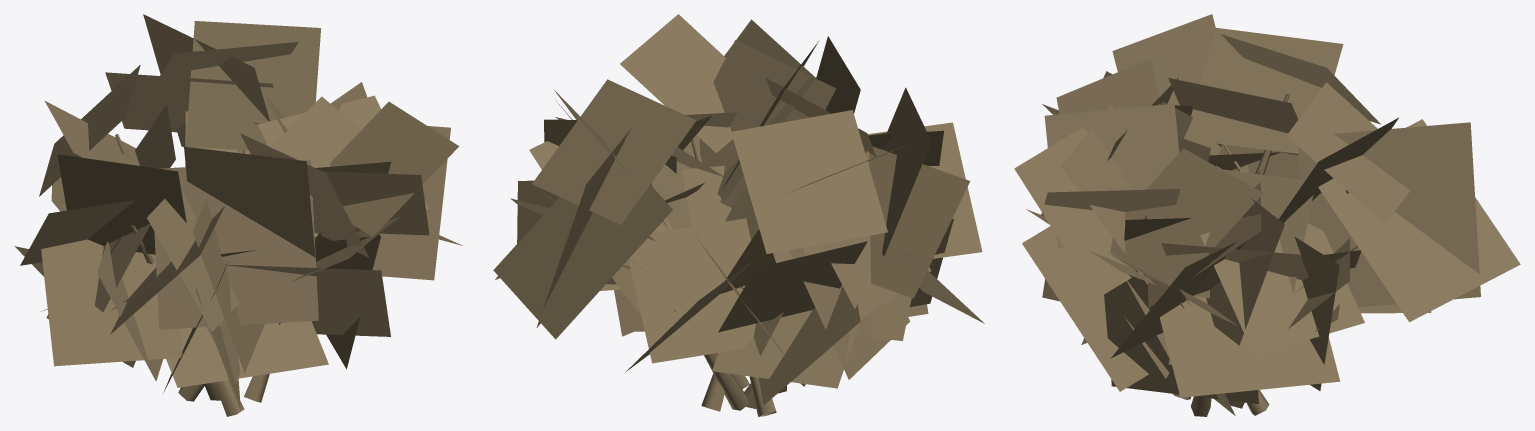
Rendered from bush-0-lod1.glb.
3 renders of one model, left to right at view 1: azimuth 30°, elevation 25°; view 2: azimuth 150°, elevation 25°; view 3: azimuth 270°, elevation 25°, orthographic. The views are drawn at different scales.
Parts seen in each view (by area): view 1: bush-0-lod1-bush-foliage, bush-0-lod1-oak-bark; view 2: bush-0-lod1-bush-foliage, bush-0-lod1-oak-bark; view 3: bush-0-lod1-bush-foliage, bush-0-lod1-oak-bark.
Part boxes in pixels (<box>): bush-0-lod1-bush-foliage: <box>15,14,462,409</box>; bush-0-lod1-oak-bark: <box>115,134,318,416</box>; bush-0-lod1-bush-foliage: <box>493,14,984,405</box>; bush-0-lod1-oak-bark: <box>674,137,786,416</box>; bush-0-lod1-bush-foliage: <box>1014,14,1520,415</box>; bush-0-lod1-oak-bark: <box>1144,94,1348,416</box>.
Size of the model in its own units: 2.02 by 1.43 by 2.02.
